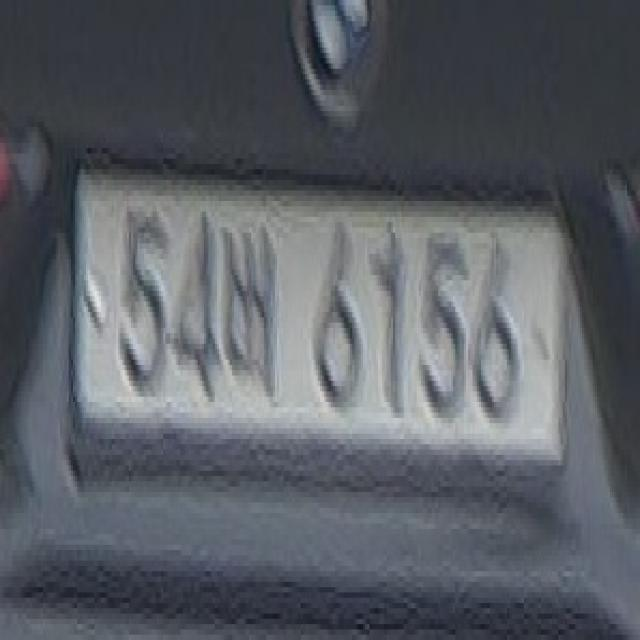1: (372, 196, 410, 439)
4: (163, 190, 221, 412)
5: (114, 169, 167, 413), (421, 201, 466, 444)
6: (305, 164, 365, 434), (468, 206, 522, 460)
beo: (214, 190, 286, 397)
license_plate: (58, 143, 571, 508)
